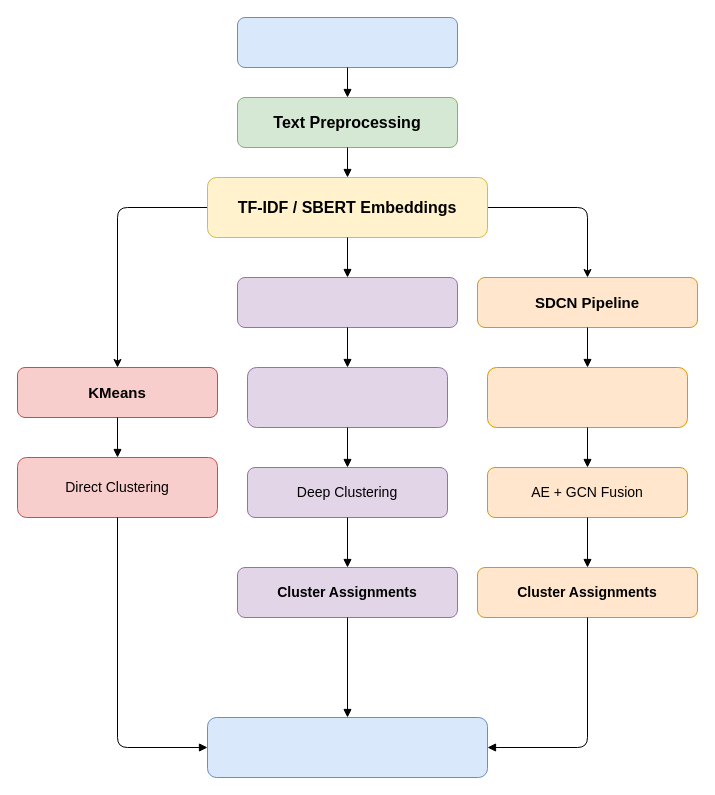
Some shapes in this 715 by 795 pixel diagram are drawn without their labels. Here are the shapes that lost their labels. From the top down, the centre of each, then its label:
At point 347,42: "Documents".
At point 347,302: "IDEC Pipeline".
At point 347,397: "Autoencoder Latent Space".
At point 587,397: "KNN Graph Construction".
At point 347,747: "Evaluation Metrics".
